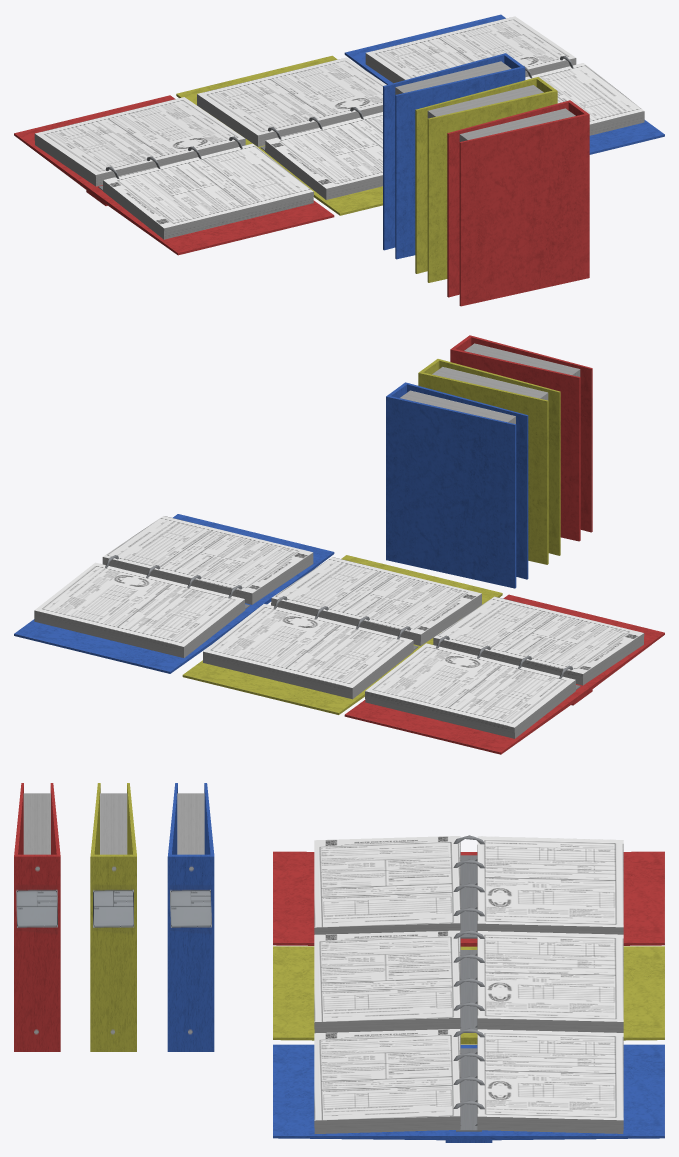
File: binder_asset_pack.glb
The picture shows the model from 3 angles, top to bottom: view 1: azimuth 30°, elevation 25°; view 2: azimuth 150°, elevation 25°; view 3: azimuth 270°, elevation 25°; orthographic projection. The views are drawn at different scales.
Visible parts, largest first — view 1: binder_red_open_3, binder_red_2, binder_yellow_open_5, binder_blue_open_1, binder_blue_0, binder_yellow_4; view 2: binder_red_open_3, binder_blue_open_1, binder_yellow_open_5, binder_blue_0, binder_yellow_4, binder_red_2; view 3: binder_blue_open_1, binder_yellow_open_5, binder_red_open_3, binder_blue_0, binder_red_2, binder_yellow_4.
Part boxes in pixels (box(x1,y1,x2,y2)): binder_red_open_3: box(14, 95, 334, 255); binder_red_2: box(447, 100, 589, 306); binder_yellow_open_5: box(176, 55, 386, 215); binder_blue_open_1: box(344, 14, 664, 154); binder_blue_0: box(383, 53, 525, 259); binder_yellow_4: box(415, 77, 557, 282); binder_red_open_3: box(344, 594, 664, 754); binder_blue_open_1: box(14, 514, 334, 673); binder_yellow_open_5: box(182, 555, 502, 714); binder_blue_0: box(386, 382, 528, 588); binder_yellow_4: box(418, 359, 560, 564); binder_red_2: box(450, 335, 592, 541); binder_blue_open_1: box(273, 1028, 664, 1142); binder_yellow_open_5: box(273, 930, 664, 1044); binder_red_open_3: box(273, 835, 664, 946); binder_blue_0: box(167, 783, 214, 1051); binder_red_2: box(14, 783, 60, 1051); binder_yellow_4: box(90, 783, 136, 1051).
Size of the model in its own units: 1.93 by 0.62 by 1.87.
Materials: 6 (6 with a texture image).
